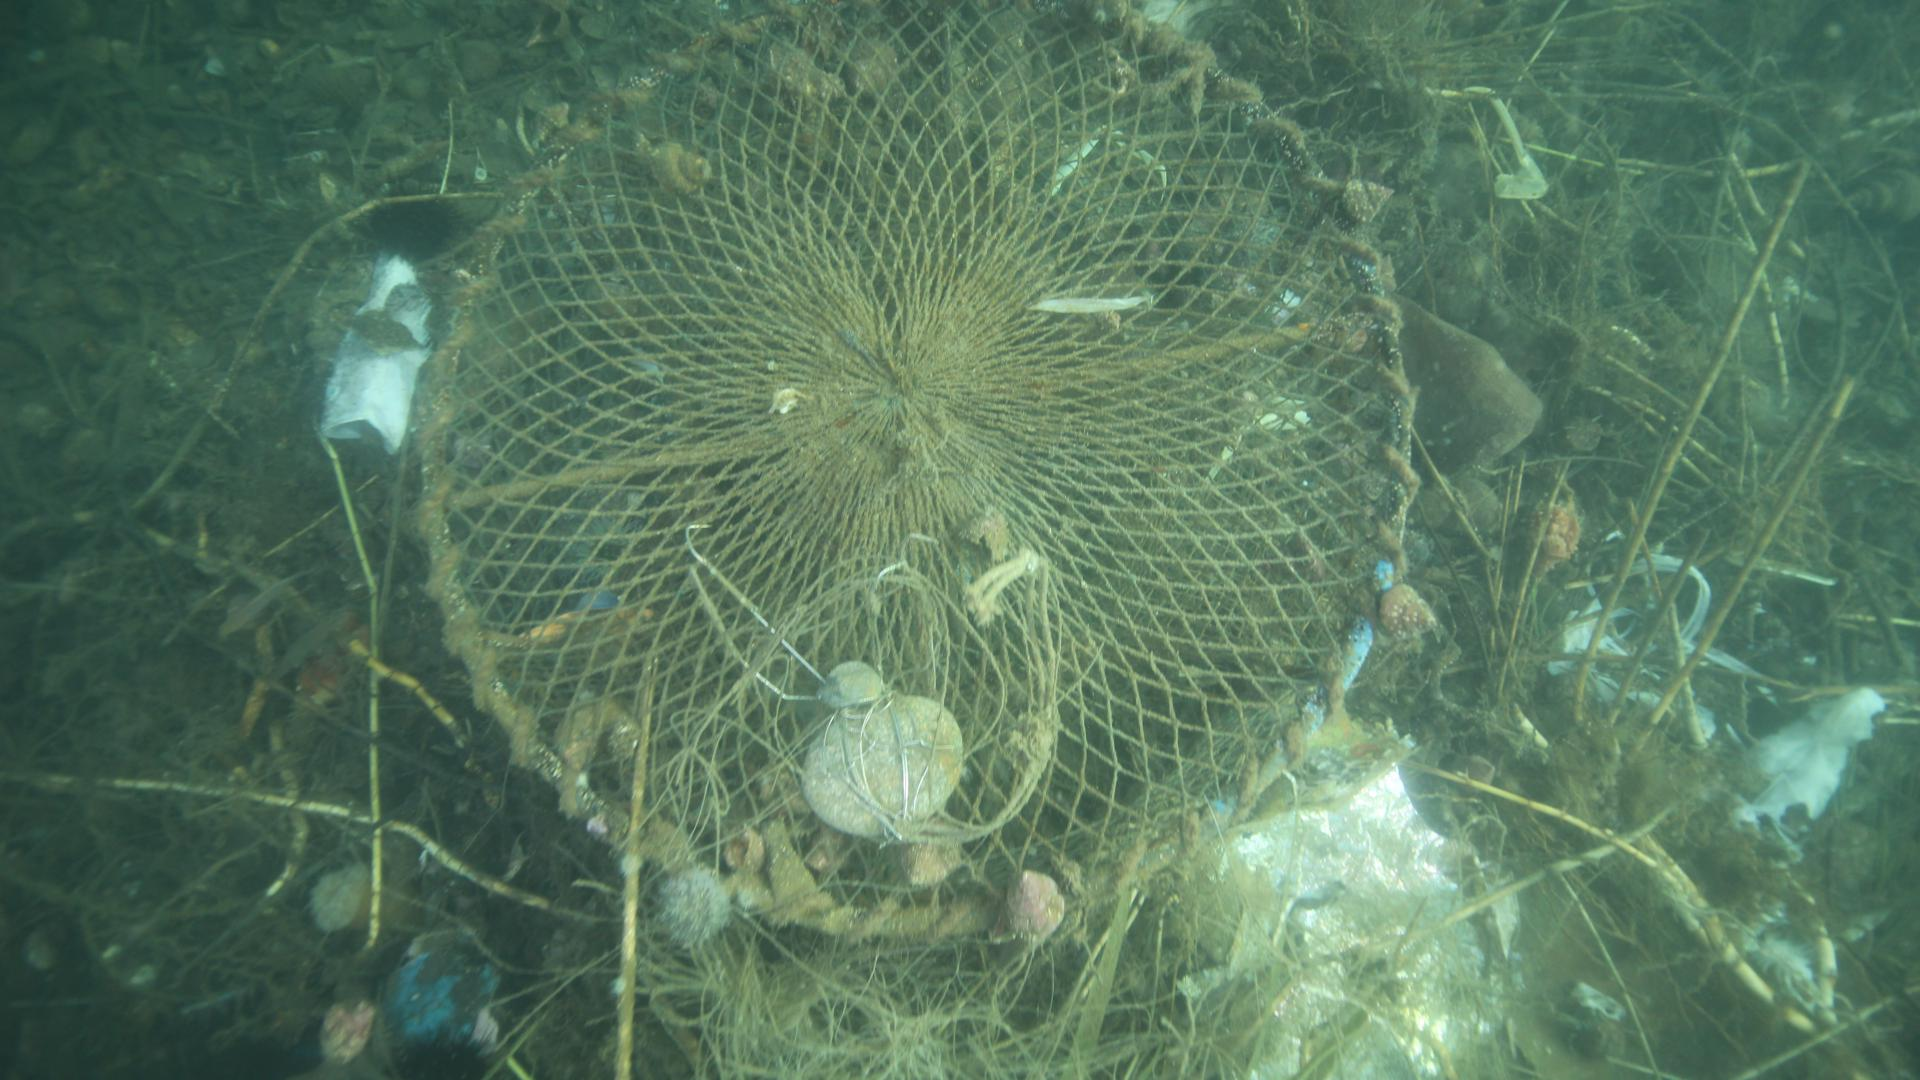circular fish trap: (402, 0, 1424, 940)
